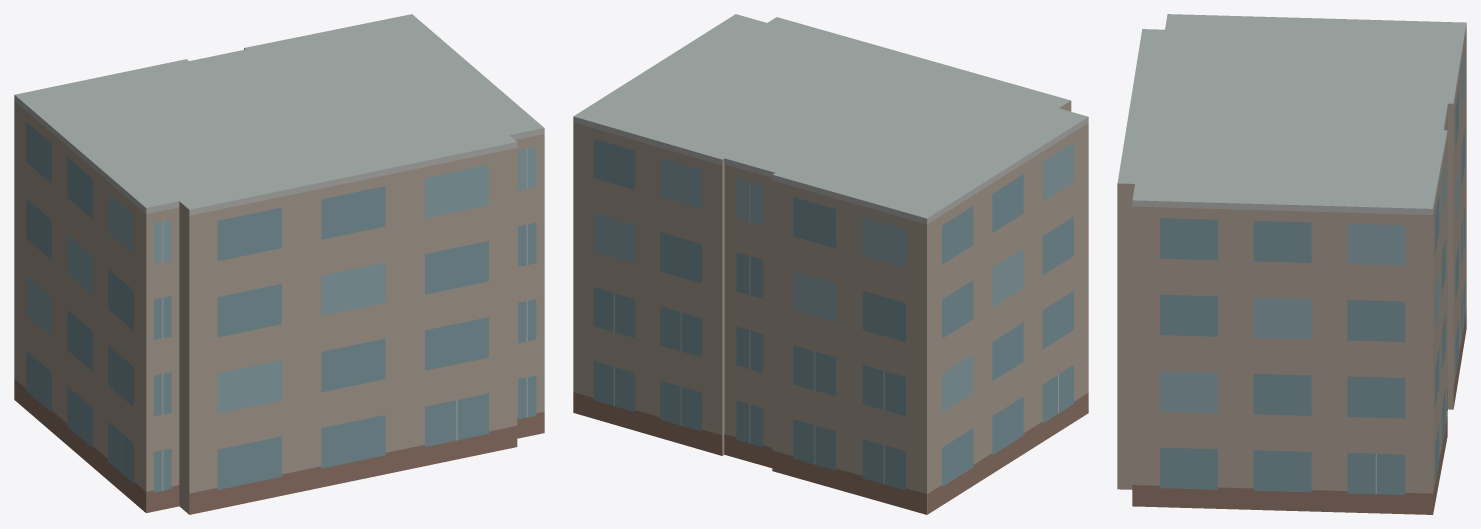
The model's file is survey-upis-32841649.glb.
3 views of the same model, side by side, from view 1: azimuth 30°, elevation 25°; view 2: azimuth 150°, elevation 25°; view 3: azimuth 270°, elevation 25° (orthographic). The views are drawn at different scales.
Visible parts, largest first — view 1: survey-upis-32841649.tmp; view 2: survey-upis-32841649.tmp; view 3: survey-upis-32841649.tmp.
Part boxes in pixels (box(x1,y1,x2,y2)): survey-upis-32841649.tmp: box(14, 14, 544, 514); survey-upis-32841649.tmp: box(573, 14, 1088, 514); survey-upis-32841649.tmp: box(1117, 14, 1466, 514).
Bounding box in the file's own units: 16.68 × 12.2 × 12.62.
